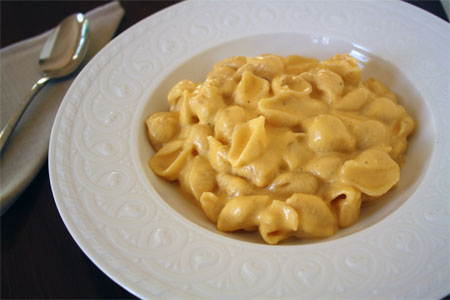macncheese: (144, 51, 415, 244)
